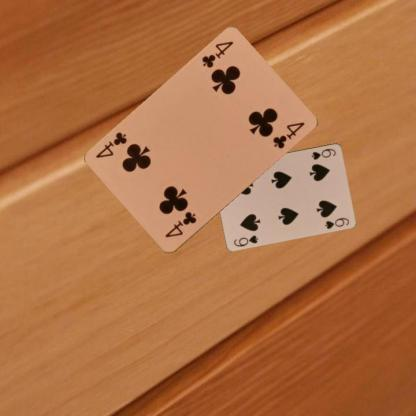4c: (162, 208, 198, 240), (198, 39, 234, 70)
6s: (231, 232, 260, 247), (309, 146, 338, 160)
